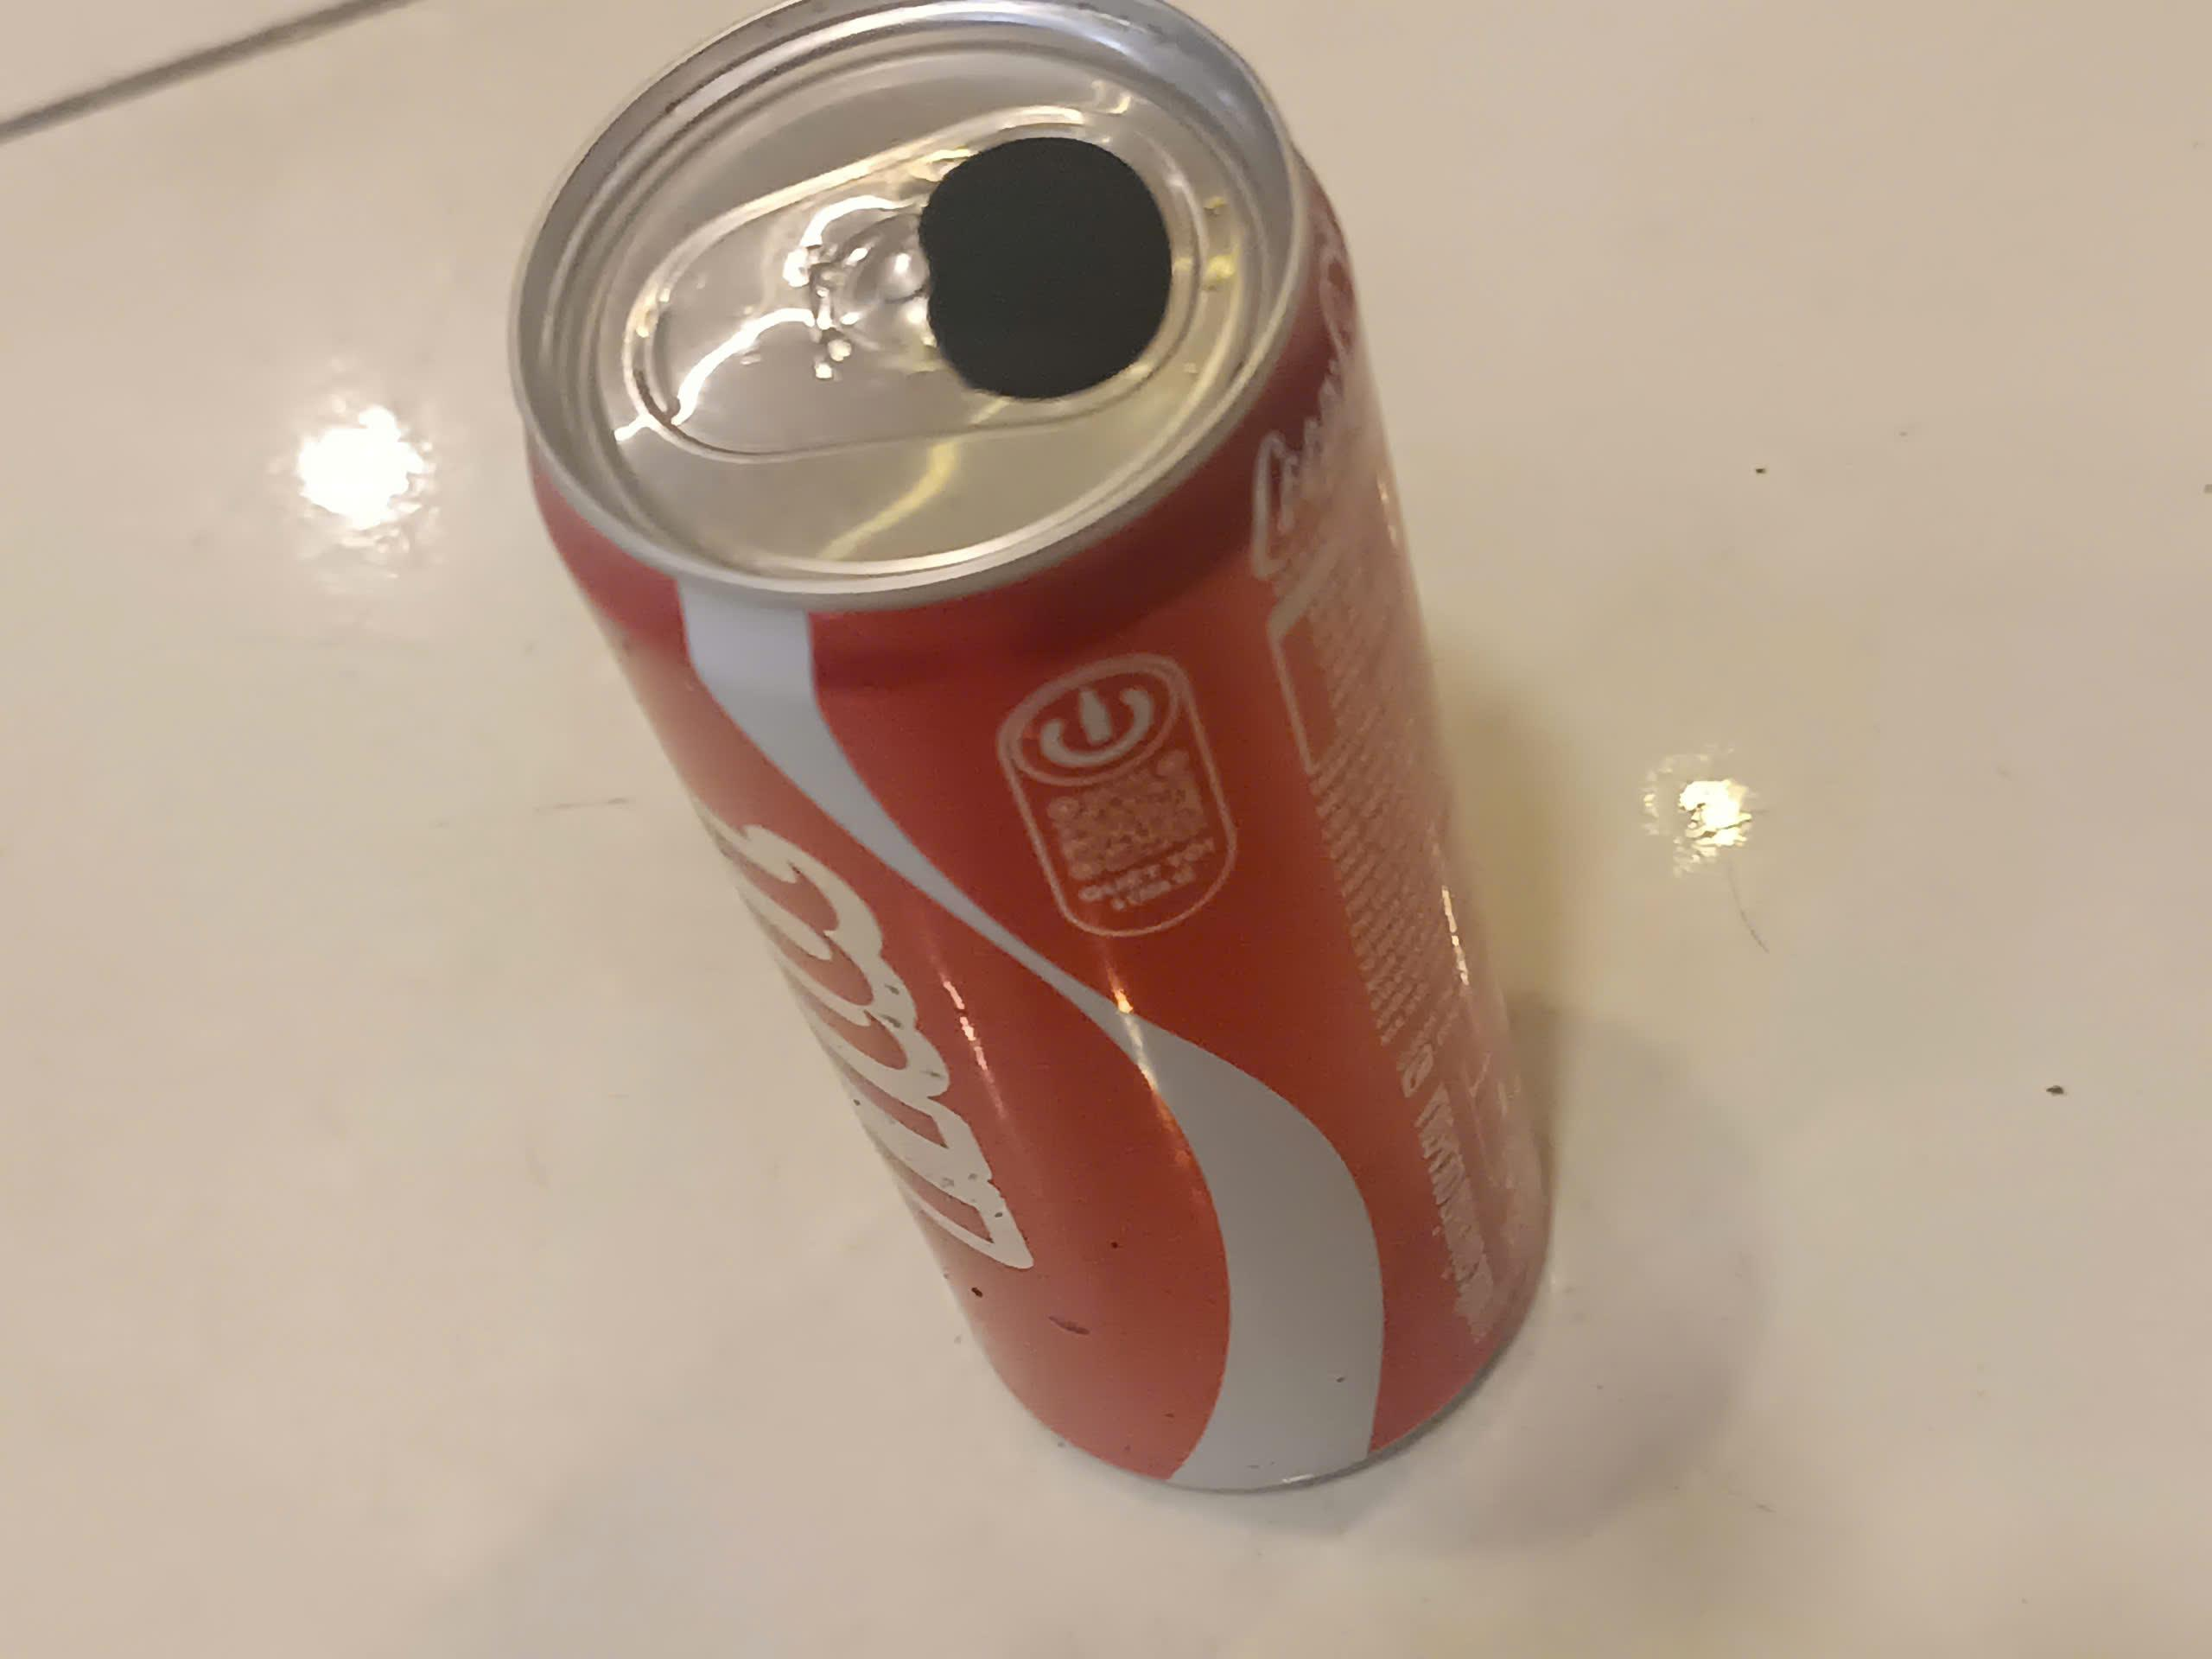Vo co: (512, 0, 1533, 1486)
